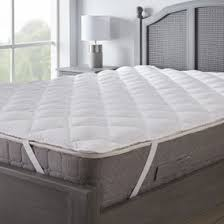bed-matress: (1, 63, 222, 210)
